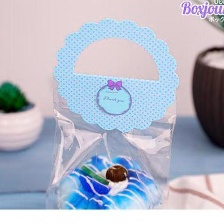snack: (37, 12, 184, 209)
